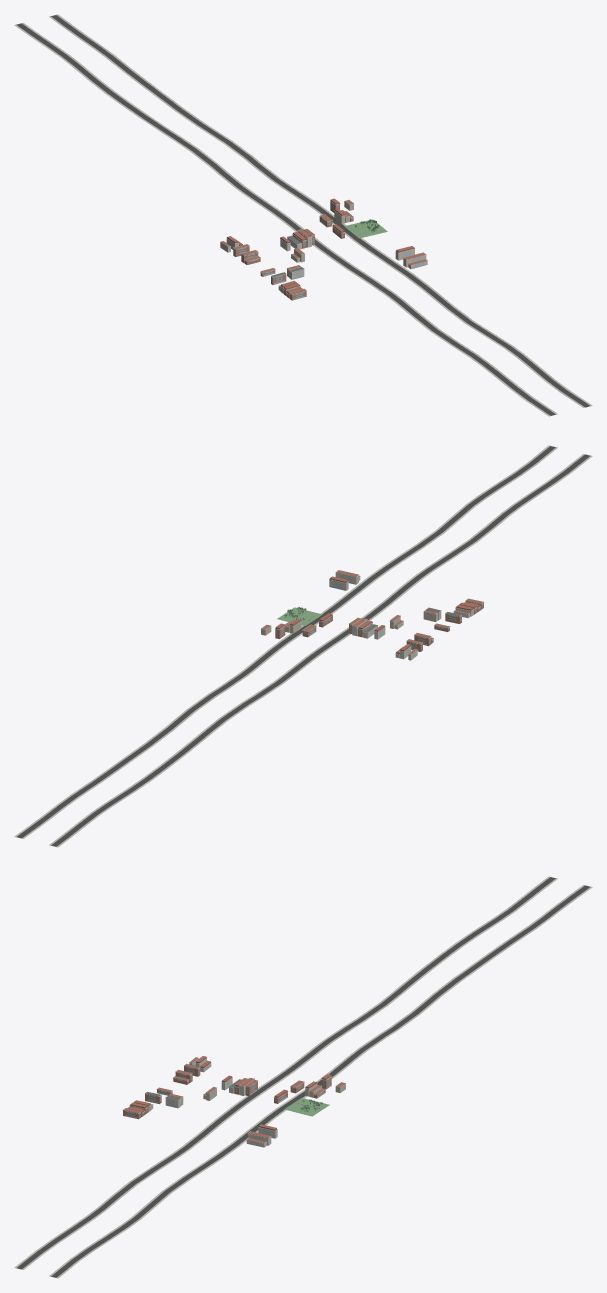
3 views of the same model, one above another, from view 1: azimuth 30°, elevation 25°; view 2: azimuth 150°, elevation 25°; view 3: azimuth 330°, elevation 25° (orthographic).
Visible parts, largest first — view 1: road-v-8-mesh-3, road-v-7-mesh-1, road-v-7-mesh-0, road-v-8-mesh-2; view 2: road-v-8-mesh-3, road-v-7-mesh-1, road-v-7-mesh-0, road-v-8-mesh-2; view 3: road-v-7-mesh-1, road-v-8-mesh-3, road-v-7-mesh-0, road-v-8-mesh-2.
Part boxes in pixels (x1,y1,x2,y2): road-v-8-mesh-3: (51,15,589,407); road-v-7-mesh-1: (16,23,555,415); road-v-7-mesh-0: (14,22,557,416); road-v-8-mesh-2: (49,14,592,407); road-v-8-mesh-3: (17,446,555,838); road-v-7-mesh-1: (51,454,590,846); road-v-7-mesh-0: (49,454,592,847); road-v-8-mesh-2: (14,445,557,838); road-v-7-mesh-1: (16,877,555,1269); road-v-8-mesh-3: (51,885,589,1277); road-v-7-mesh-0: (14,876,557,1269); road-v-8-mesh-2: (49,885,592,1278).
Bounding box in the file's own units: 250 × 17.98 × 1604.
